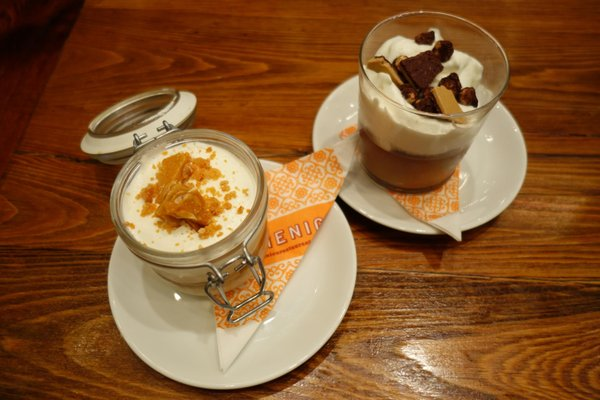pizza: (110, 127, 270, 326), (356, 8, 511, 193)
